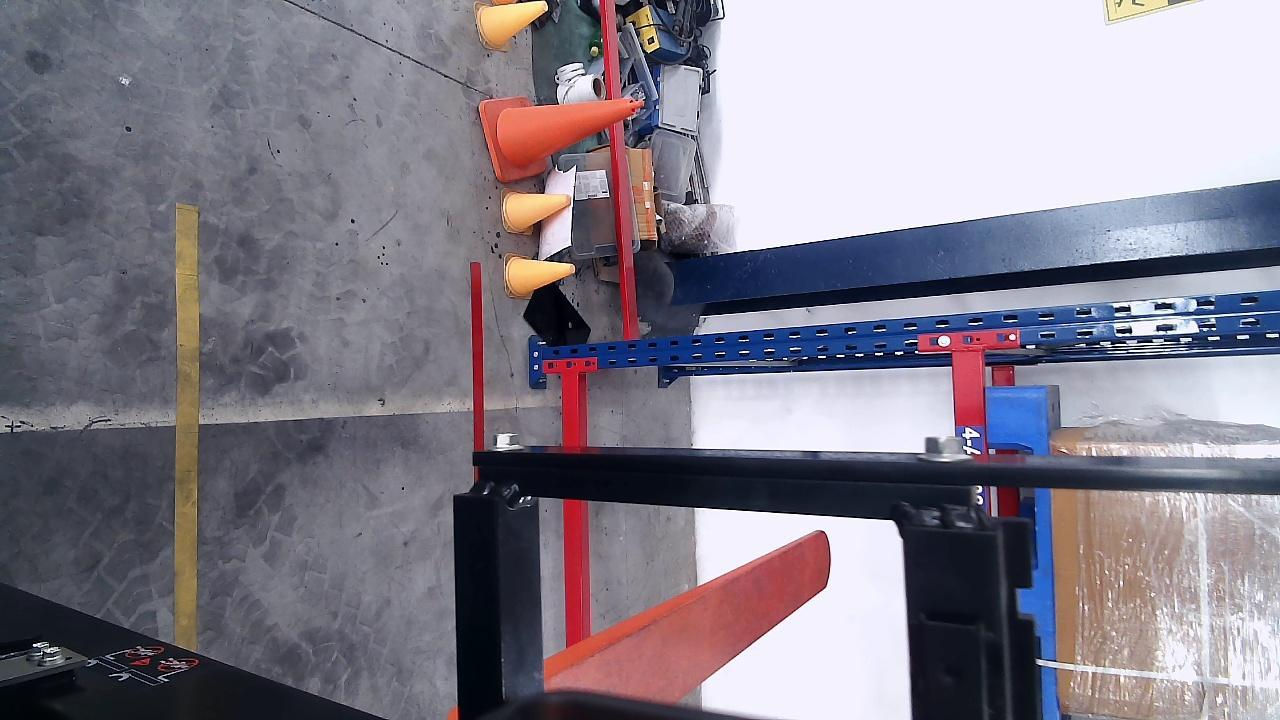h_rack: (560, 372, 587, 646)
red_line: (468, 263, 486, 449)
yellow_line: (174, 204, 202, 651)
